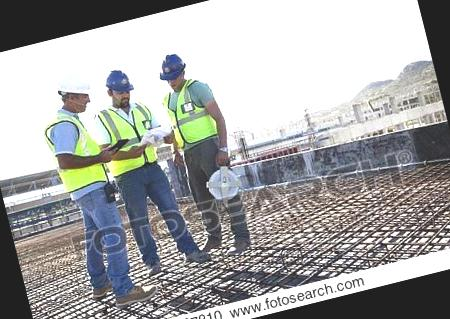helmet: (53, 63, 97, 105), (153, 51, 191, 81), (102, 63, 134, 98)
person: (28, 57, 158, 314), (89, 53, 210, 281), (142, 38, 262, 262)
